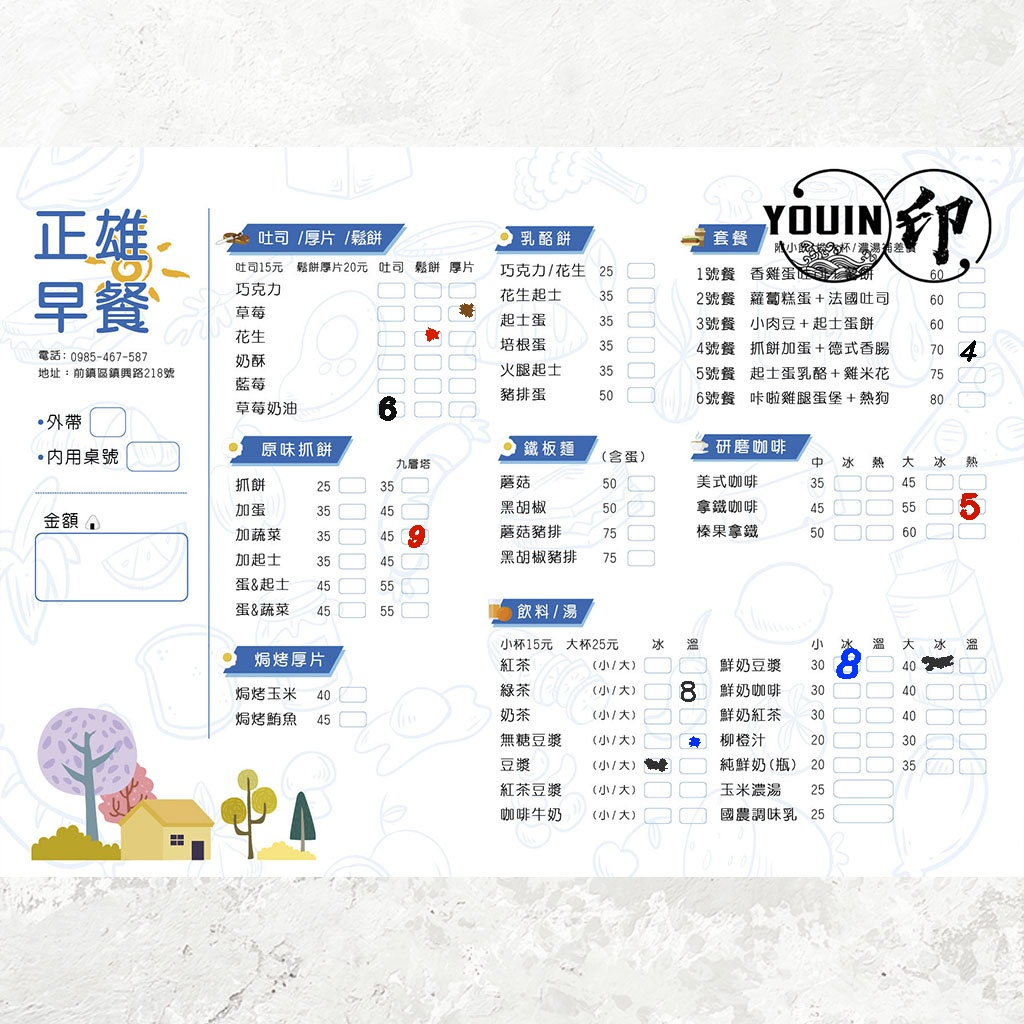marked_circle: (448, 305, 474, 319), (679, 732, 705, 746), (414, 330, 440, 344)
marked_number_4: (957, 341, 983, 355)
marked_number_5: (958, 497, 984, 511)
marked_number_6: (377, 401, 403, 415)
marked_number_8: (834, 657, 860, 671), (678, 686, 704, 700)
marked_number_9: (401, 528, 427, 542)
marked_x: (643, 757, 669, 771), (926, 657, 952, 671)
